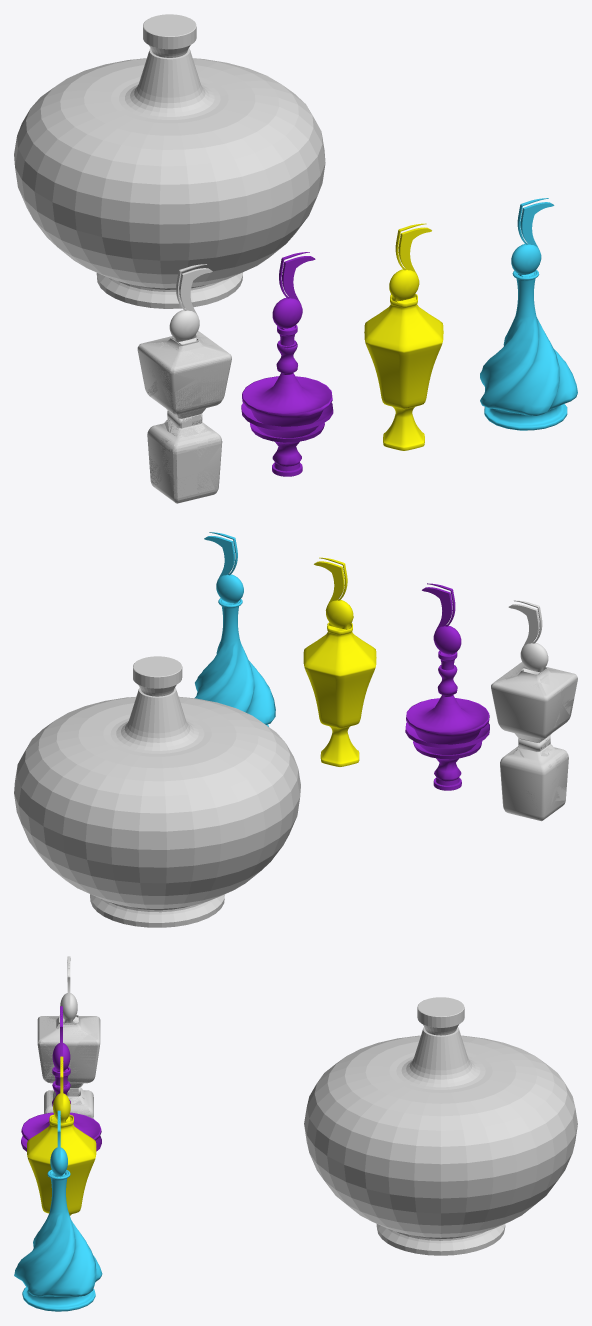
The model's file is Potion_Fin_Entiere.fbx.
3 views of the same model, one above another, from view 1: azimuth 30°, elevation 25°; view 2: azimuth 150°, elevation 25°; view 3: azimuth 270°, elevation 25° (orthographic). The views are drawn at different scales.
Visible parts, largest first — view 1: Potion_Fin_Corps, Potion_Legato_Corps, Potion_Solo_Corps, Potion_Staccato_Corps, Potions_Pizzicato_Corps, Potion_Fin_Bouchon, Potion_Staccato_Bouchon, Potion_Solo_Corps_Bouchon, Potion_Legato_Bouchon, Potions_Pizzicato_Bouchon, Potion_Solo_Corps.001_cell.064; view 2: Potion_Fin_Corps, Potion_Solo_Corps, Potion_Staccato_Corps, Potions_Pizzicato_Corps, Potion_Legato_Corps, Potion_Fin_Bouchon, Potion_Solo_Corps_Bouchon, Potion_Staccato_Bouchon, Potion_Legato_Bouchon, Potions_Pizzicato_Bouchon; view 3: Potion_Fin_Corps, Potion_Legato_Corps, Potion_Staccato_Corps, Potion_Solo_Corps, Potions_Pizzicato_Corps, Potion_Fin_Bouchon, Potion_Staccato_Bouchon, Potion_Solo_Corps_Bouchon, Potion_Legato_Bouchon, Potions_Pizzicato_Bouchon.
Part boxes in pixels (x1=…): Potion_Fin_Corps: x1=14, y1=48, x2=325, y2=308; Potion_Legato_Corps: x1=480, y1=269, x2=577, y2=430; Potion_Solo_Corps: x1=137, y1=334, x2=231, y2=503; Potion_Staccato_Corps: x1=364, y1=294, x2=443, y2=450; Potions_Pizzicato_Corps: x1=241, y1=325, x2=333, y2=476; Potion_Fin_Bouchon: x1=143, y1=14, x2=196, y2=57; Potion_Staccato_Bouchon: x1=389, y1=223, x2=431, y2=303; Potion_Solo_Corps_Bouchon: x1=169, y1=264, x2=212, y2=344; Potion_Legato_Bouchon: x1=511, y1=198, x2=554, y2=276; Potions_Pizzicato_Bouchon: x1=272, y1=252, x2=315, y2=329; Potion_Solo_Corps.001_cell.064: x1=163, y1=449, x2=199, y2=479; Potion_Fin_Corps: x1=14, y1=687, x2=300, y2=927; Potion_Solo_Corps: x1=491, y1=662, x2=577, y2=821; Potion_Staccato_Corps: x1=303, y1=622, x2=376, y2=766; Potions_Pizzicato_Corps: x1=405, y1=650, x2=489, y2=790; Potion_Legato_Corps: x1=194, y1=598, x2=275, y2=726; Potion_Fin_Bouchon: x1=133, y1=656, x2=182, y2=696; Potion_Solo_Corps_Bouchon: x1=508, y1=600, x2=548, y2=674; Potion_Staccato_Bouchon: x1=314, y1=557, x2=353, y2=630; Potion_Legato_Bouchon: x1=204, y1=532, x2=243, y2=604; Potions_Pizzicato_Bouchon: x1=422, y1=583, x2=461, y2=655; Potion_Fin_Corps: x1=304, y1=1027, x2=577, y2=1255; Potion_Legato_Corps: x1=14, y1=1169, x2=102, y2=1311; Potion_Staccato_Corps: x1=27, y1=1114, x2=96, y2=1215; Potion_Solo_Corps: x1=38, y1=1015, x2=100, y2=1118; Potions_Pizzicato_Corps: x1=21, y1=1067, x2=101, y2=1151; Potion_Fin_Bouchon: x1=417, y1=997, x2=464, y2=1035; Potion_Staccato_Bouchon: x1=52, y1=1056, x2=70, y2=1123; Potion_Solo_Corps_Bouchon: x1=59, y1=956, x2=78, y2=1023; Potion_Legato_Bouchon: x1=50, y1=1110, x2=67, y2=1176; Potions_Pizzicato_Bouchon: x1=52, y1=1006, x2=70, y2=1071.
Size of the model in its own units: 631 by 388 by 860.
